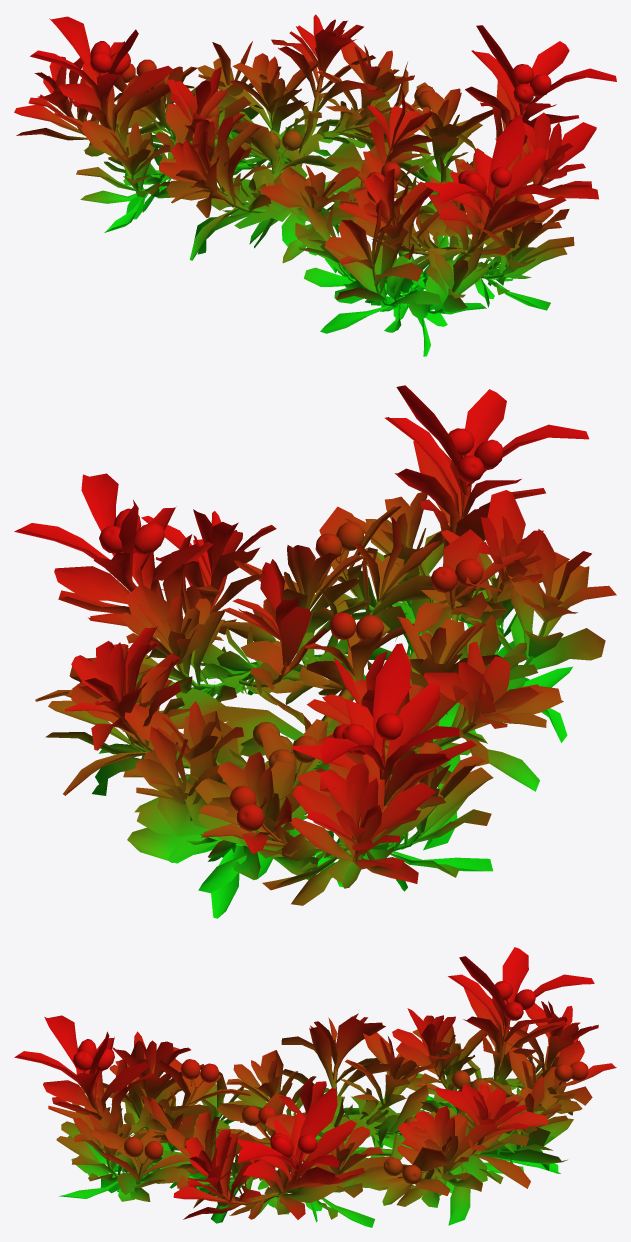
The model's file is Alpine Bearberry_LOD2_Var2_xb0gdazqx.fbx.
3 renders of one model, top to bottom at view 1: azimuth 30°, elevation 25°; view 2: azimuth 150°, elevation 25°; view 3: azimuth 270°, elevation 25°, orthographic. The views are drawn at different scales.
Visible parts, largest first — view 1: _bq33_Var2_LOD2; view 2: _bq33_Var2_LOD2; view 3: _bq33_Var2_LOD2.
Boxes of the visible parts, <box> form: _bq33_Var2_LOD2: <box>14,14,616,356</box>; _bq33_Var2_LOD2: <box>14,385,616,918</box>; _bq33_Var2_LOD2: <box>14,947,616,1227</box>.
Size of the model in its own units: 34.86 by 17.15 by 44.94.
